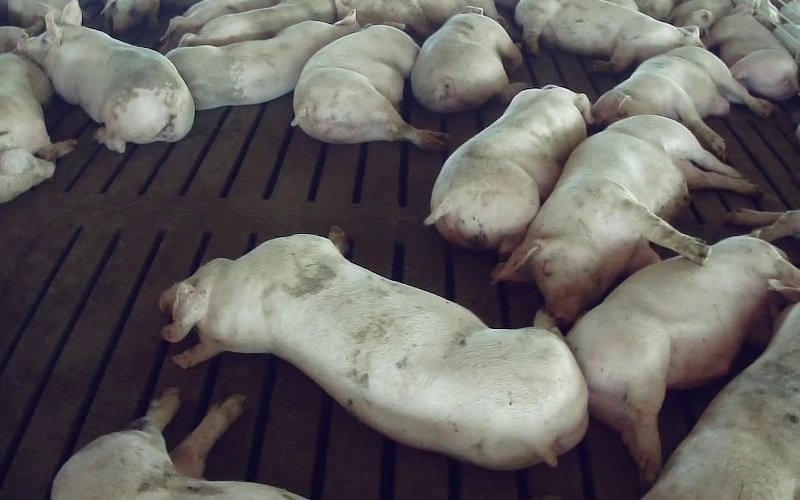pig: (160, 229, 586, 469), (568, 236, 799, 479), (644, 303, 799, 499), (425, 85, 590, 252), (16, 0, 194, 151), (592, 46, 772, 159), (292, 25, 446, 149), (166, 11, 359, 109), (515, 0, 702, 72), (411, 6, 525, 112), (705, 4, 797, 100)
